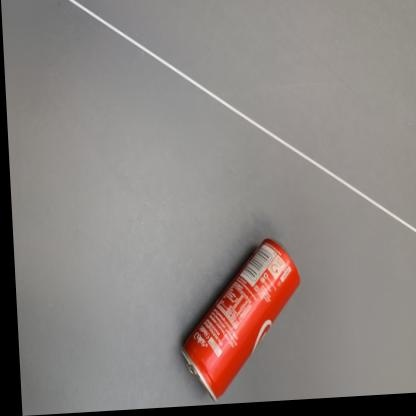trash: (183, 239, 299, 399)
